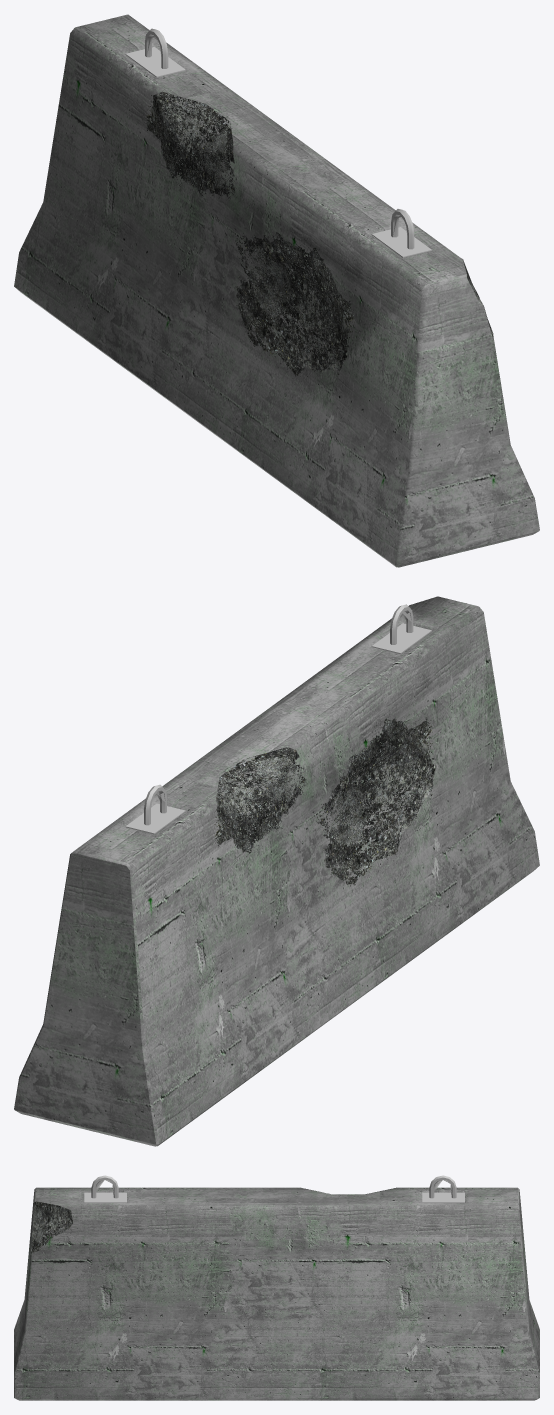
The model's file is RoadBlock_2.fbx.
3 renders of one model, top to bottom at view 1: azimuth 30°, elevation 25°; view 2: azimuth 150°, elevation 25°; view 3: azimuth 270°, elevation 25°, orthographic. The views are drawn at different scales.
Visible parts, largest first — view 1: RoadBlock_2__Lod:1, RoadBlock_2__Lod:0, RoadBlock_2__Lod:3; view 2: RoadBlock_2__Lod:1, RoadBlock_2__Lod:0, RoadBlock_2__Lod:3; view 3: RoadBlock_2__Lod:1, RoadBlock_2__Lod:0, RoadBlock_2__Lod:3, RoadBlock_2__Lod:2.
Part boxes in pixels (box(x1,y1,x2,y2)): RoadBlock_2__Lod:1: box(17, 28, 539, 567); RoadBlock_2__Lod:0: box(14, 14, 539, 567); RoadBlock_2__Lod:3: box(146, 35, 472, 370); RoadBlock_2__Lod:1: box(14, 598, 536, 1146); RoadBlock_2__Lod:0: box(14, 596, 539, 1146); RoadBlock_2__Lod:3: box(156, 611, 434, 874); RoadBlock_2__Lod:1: box(14, 1181, 539, 1400); RoadBlock_2__Lod:0: box(15, 1175, 538, 1399); RoadBlock_2__Lod:3: box(33, 1180, 452, 1246); RoadBlock_2__Lod:2: box(32, 1180, 539, 1373).
Bounding box in the file's own units: 47.61 × 92.38 × 218.
